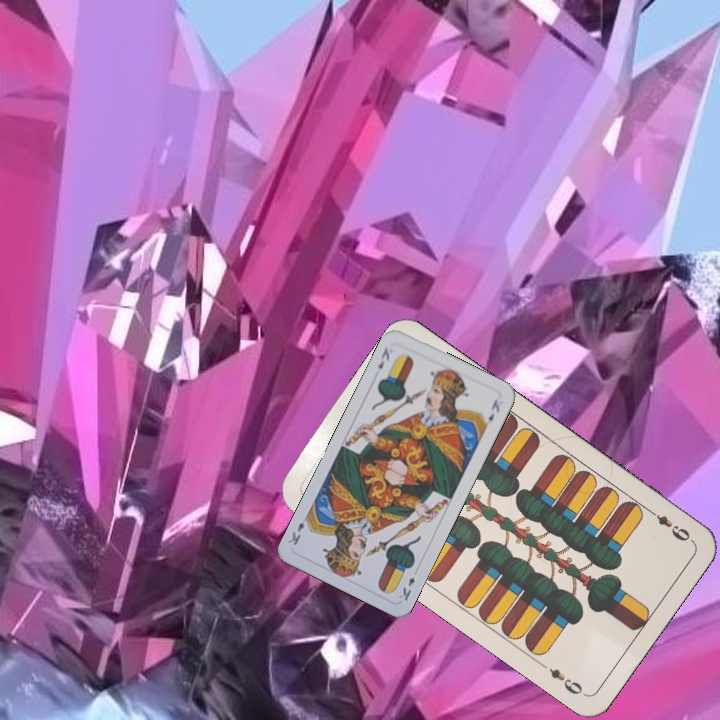E9: (644, 505, 695, 544)
EK: (395, 572, 417, 603), (374, 343, 392, 372)
